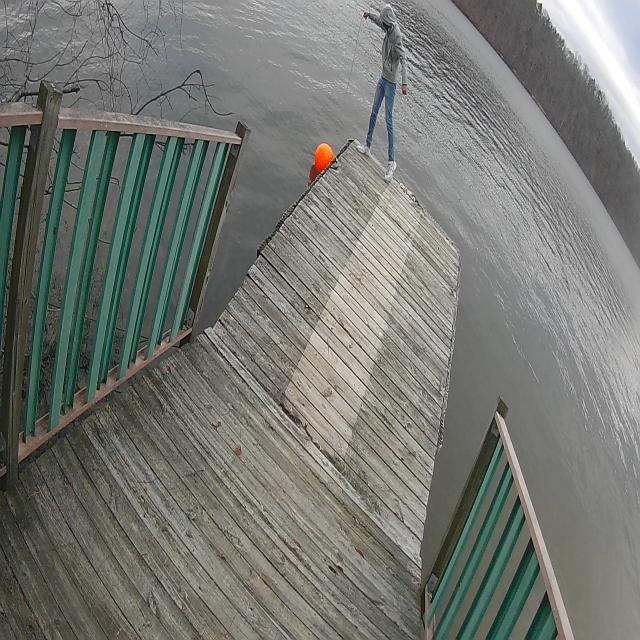Buoy: (309, 134, 340, 183)
